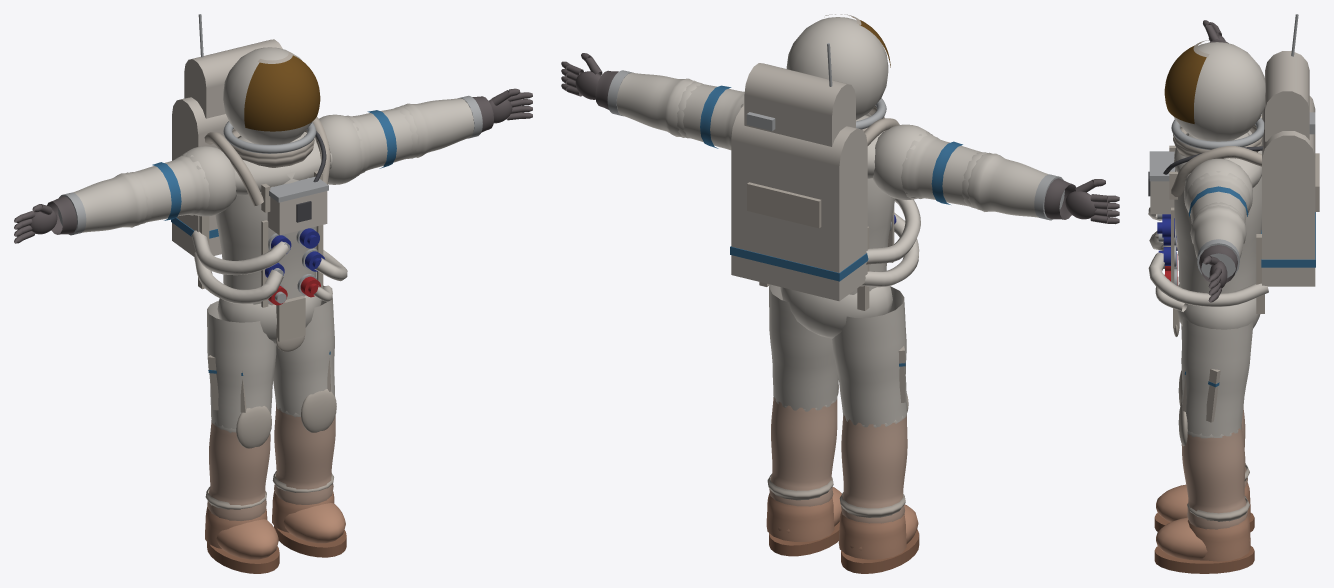
The model's file is C01_colonist_tpose_blue.glb.
3 views of the same model, side by side, from view 1: azimuth 30°, elevation 25°; view 2: azimuth 150°, elevation 25°; view 3: azimuth 270°, elevation 25° (orthographic). The views are drawn at different scales.
Parts seen in each view (by area): view 1: thigh (×2), shin (×2), forearm (×2), upper_arm (×2), visor, torso, shoulder (×2), boot (×2), oxygen_hose (×2), helmet_shell, knee_patch (×2), boot_sole (×2) (+14 smaller); view 2: pack_main, thigh (×2), shin (×2), forearm (×2), helmet_shell, upper_arm (×2), boot_shaft (×2), pack_upper_roll, pelvis, pack_top_roll, pack_upper_unit, oxygen_hose (×2) (+7 smaller); view 3: pack_main, thigh, helmet_shell, shin, torso, pack_upper_roll, boot (×2), visor, forearm, water_hose, pack_top_roll, upper_arm (+24 smaller).
Part boxes in pixels (x1,y1,x2,y2): thigh (×2): (207, 285, 334, 429); shin (×2): (207, 404, 335, 520); forearm (×2): (73, 98, 474, 232); upper_arm (×2): (135, 108, 415, 222); visor: (244, 55, 320, 131); torso: (215, 134, 316, 305); shoulder (×2): (182, 114, 361, 216); boot (×2): (216, 503, 345, 559); oxygen_hose (×2): (191, 230, 288, 304); helmet_shell: (223, 47, 311, 144); knee_patch (×2): (236, 389, 336, 448); boot_sole (×2): (207, 525, 346, 573); pack_main: (731, 140, 867, 301); thigh (×2): (769, 284, 906, 427); shin (×2): (769, 397, 907, 523); forearm (×2): (616, 72, 1048, 217); helmet_shell: (786, 17, 888, 119); upper_arm (×2): (680, 83, 981, 206); boot_shaft (×2): (766, 492, 906, 559); pack_upper_roll: (744, 63, 855, 127); pelvis: (780, 286, 892, 338); pack_top_roll: (731, 106, 867, 176); pack_upper_unit: (744, 94, 855, 146); oxygen_hose (×2): (860, 198, 920, 287); pack_main: (1262, 159, 1315, 286); thigh: (1181, 317, 1253, 436); helmet_shell: (1173, 42, 1265, 141); shin: (1181, 424, 1247, 529); torso: (1174, 132, 1261, 293); pack_upper_roll: (1265, 51, 1309, 130); boot (×2): (1156, 484, 1249, 560); visor: (1164, 43, 1206, 123); forearm: (1190, 205, 1246, 258); water_hose: (1148, 252, 1268, 306); pack_top_roll: (1262, 96, 1315, 182); upper_arm: (1185, 171, 1251, 224).
Size of the model in its own units: 2.17 by 2.02 by 0.6101.
